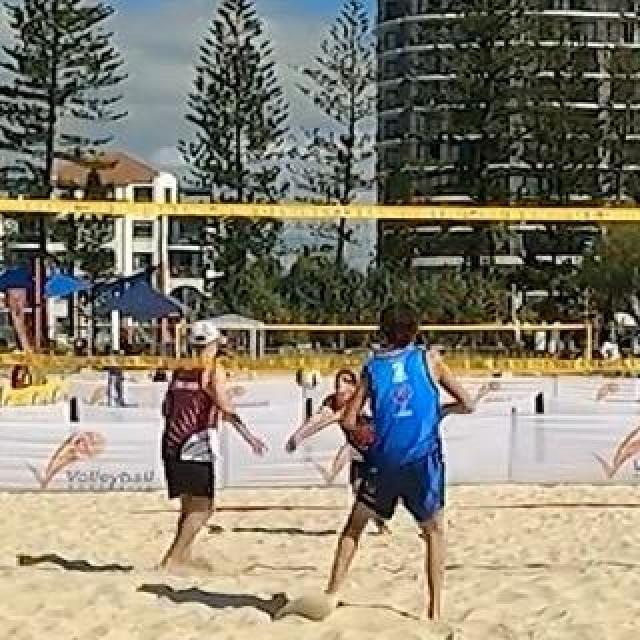volleyball: (296, 366, 320, 388)
